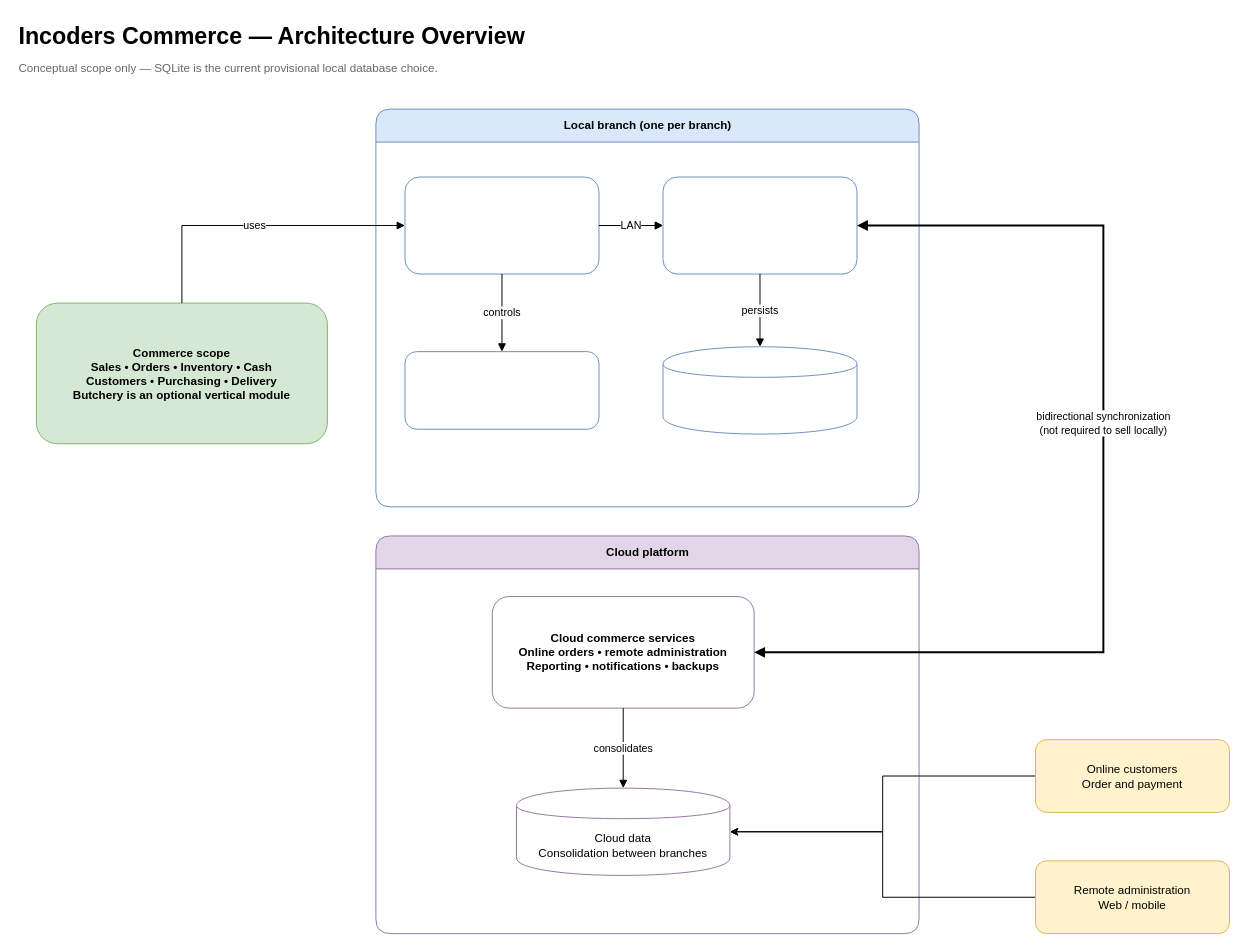
Image size: 1246x951. Some labels were removed from this diagram. Here are the shapes that lost their labels. From the top down, the centre of each, then its label:
the point at 501,225: POS and local operational clients Cashier • Branch operations • Delivery
the point at 759,225: Local node Commerce rules • local operation Hardware • synchronization
the point at 501,390: Branch hardware Scales • printers • scanners
the point at 759,390: Local operational data SQLite (provisional)
